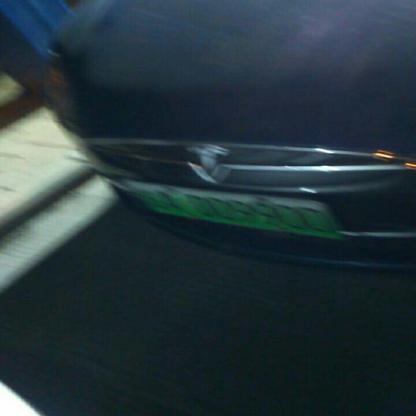lp: (127, 184, 340, 238)
